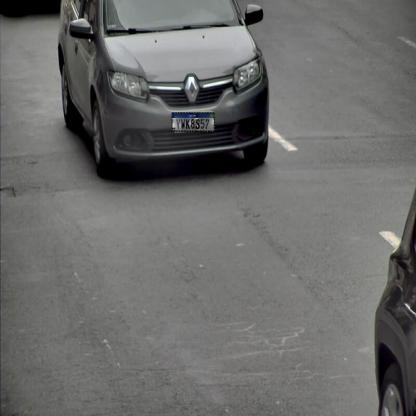PlacaM: (172, 112, 214, 132)
